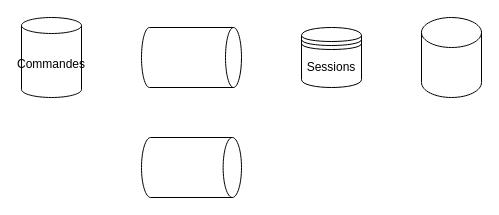
This 499x215 diagram has some shape labels left out. Here are the shapes that lost their labels. From the top down, the centre of each, then its label:
the point at 191,57: Événements
the point at 191,167: Flux
